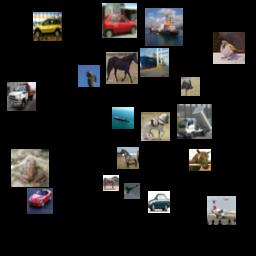airplane: (207, 196, 236, 225)
automobile: (102, 3, 137, 38), (33, 12, 62, 41), (27, 188, 53, 214), (148, 191, 170, 213)
bird: (213, 32, 245, 64), (78, 65, 100, 87), (181, 77, 200, 96), (124, 183, 140, 199)
frog: (11, 149, 49, 187)
ship: (145, 8, 183, 46), (140, 48, 169, 77), (112, 107, 134, 129)
truck: (177, 104, 212, 139), (7, 82, 36, 111)
